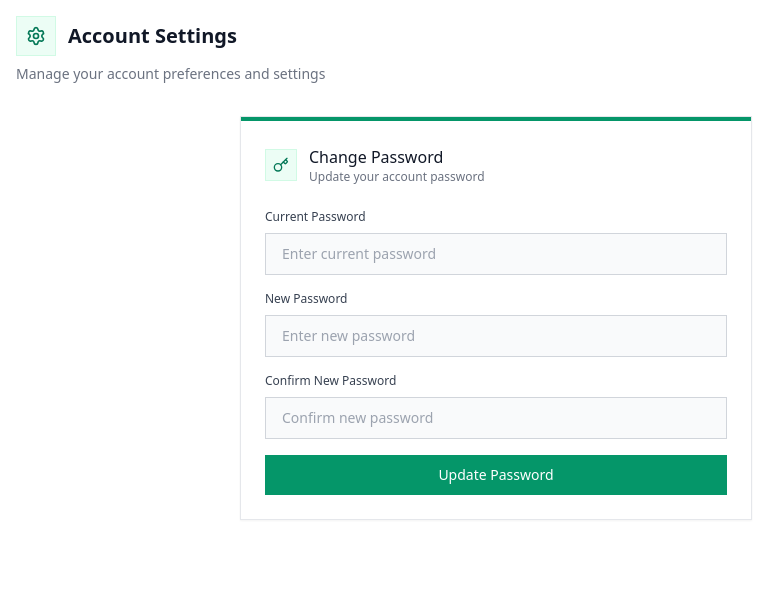
Scenario: SettingsClientPage › Password Update › validates empty fields
What coordinates should you click on to do the following:
click the button "Update Password"
I would click on:
 (496, 475)
Its box is [265,455,727,495].
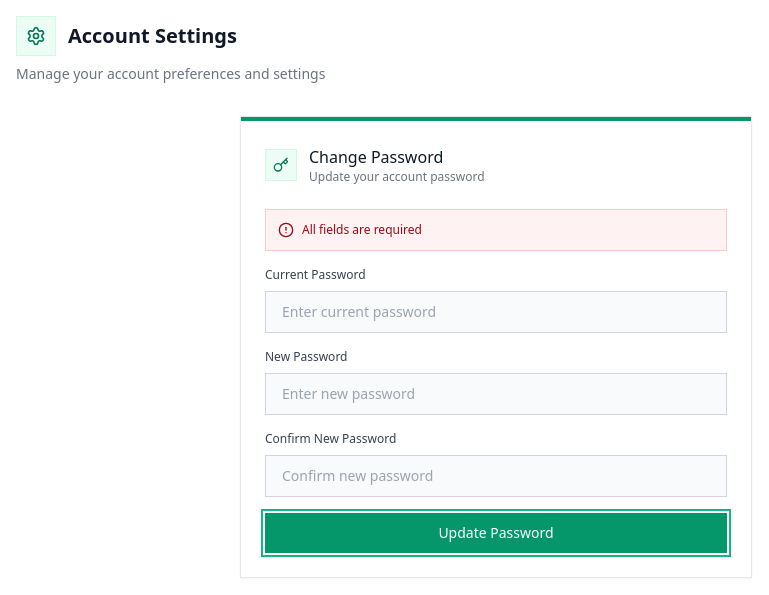
Expected: the text "All fields are required" is shown, [302,222,422,238]
